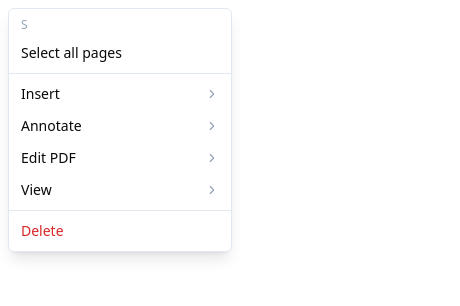
Scenario: ContextMenu (§6) › Shortcut rechtsbündig bei Befehl mit Bindung
The width and height of the screenshot is (460, 306).
Click the menu item "View".
click(120, 190)  # box [9,174,231,206]
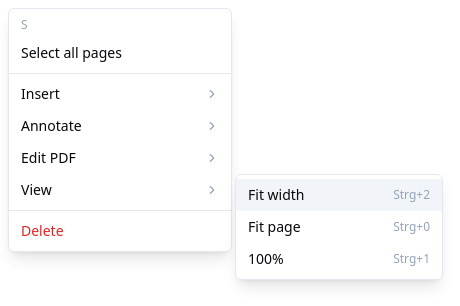
Now the text with test id "ctx-shortcut-view-fit-width" reads "Strg+2", box [393,186,430,203]
